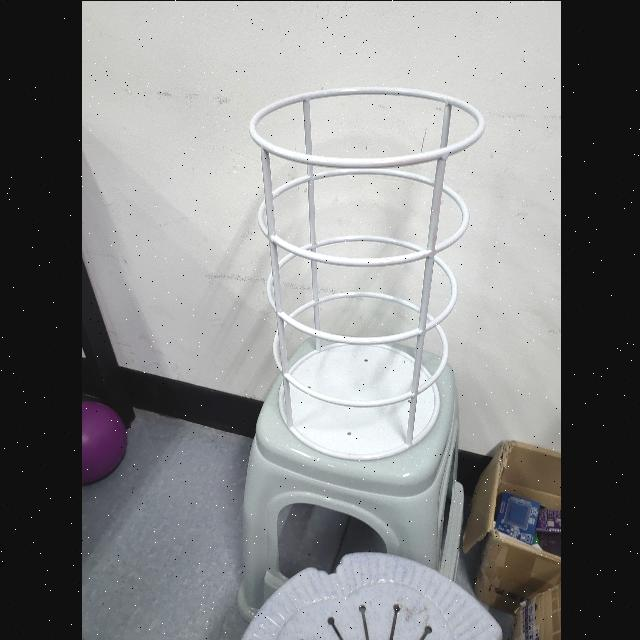S: (242, 80, 488, 463)
